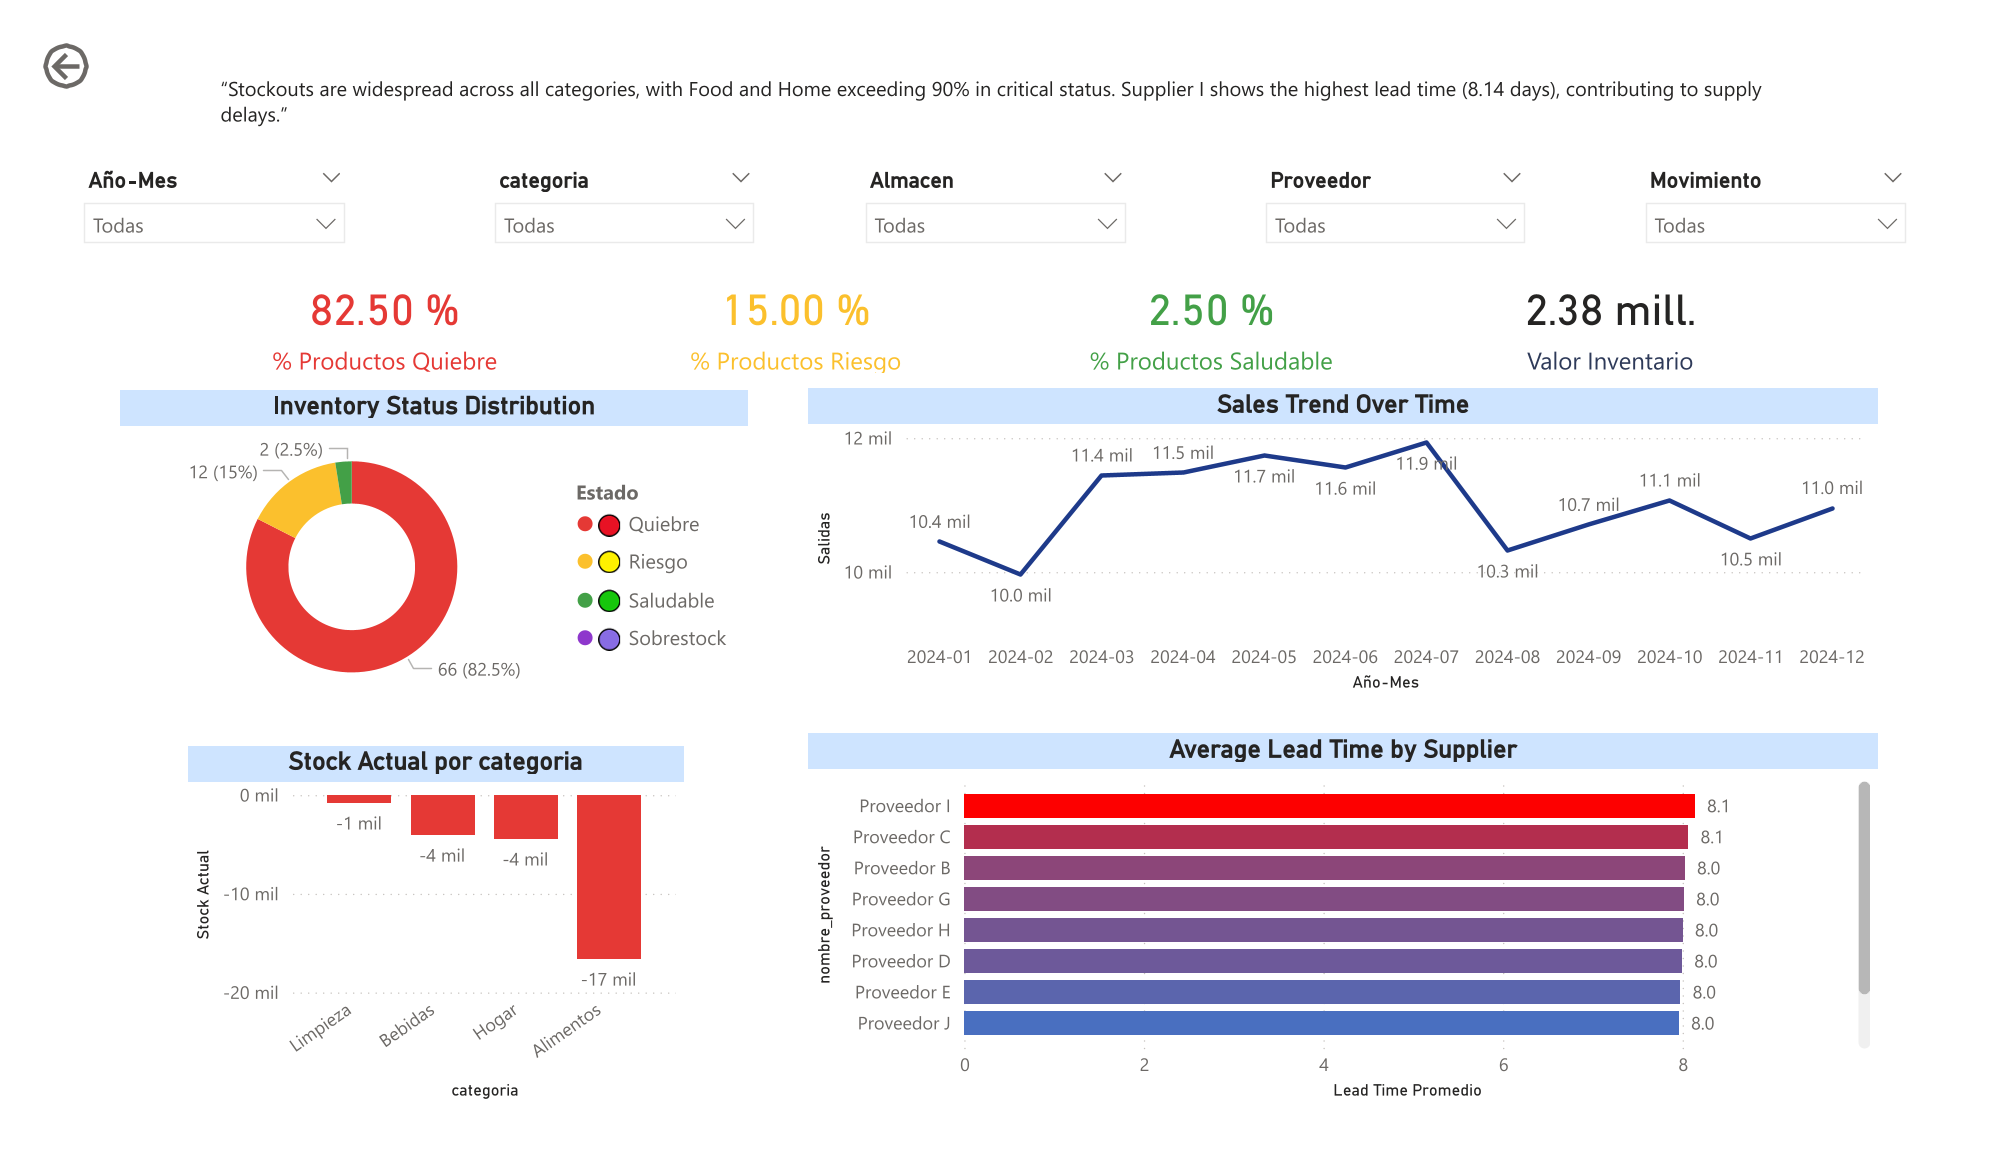

What the dashboard file says about the page in this screenshot:
{"tool":"powerbi","page":{"name":"Inventory & Operations Analysis","canvas":[1280,720],"ordinal":1},"visuals":[{"type":"donutChart","title":"Inventory Status Distribution","fields":{"Category":["Tabla Estados.Estado"],"Y":["Tabla Estados.Conteo Productos"]},"box":[56.3,236,418.5,216.8],"z":0},{"type":"lineChart","title":"Sales Trend Over Time","fields":{"Category":["dim_fecha.Año-Mes"],"Y":["fact_movimientos.Salidas"]},"box":[514.6,234.6,713.6,207.2],"z":1000},{"type":"clusteredBarChart","title":"Average Lead Time by Supplier","fields":{"Y":["fact_movimientos.Lead Time Promedio"],"Category":["dim_proveedores.nombre_proveedor"]},"box":[514.6,465.2,713.6,248.4],"z":2000},{"type":"clusteredColumnChart","fields":{"Category":["dim_productos.categoria"],"Y":["fact_movimientos.Stock Actual"]},"box":[101.3,472.9,330.6,241.3],"z":3000},{"type":"card","fields":{"Values":["fact_movimientos.% Productos Quiebre"]},"box":[143.6,153.4,177,76.8],"z":4000},{"type":"card","fields":{"Values":["fact_movimientos.% Productos Saludable"]},"box":[695.2,153.4,177,76.8],"z":5000},{"type":"card","fields":{"Values":["fact_movimientos.% Productos Riesgo"]},"box":[418,153.4,177,76.8],"z":6000},{"type":"card","fields":{"Values":["fact_movimientos.Valor Inventario"]},"box":[961.4,153.4,177,76.8],"z":7000},{"type":"slicer","fields":{"Values":["dim_fecha.Año-Mes"]},"box":[21.7,83.5,194.2,65.1],"z":8000},{"type":"slicer","fields":{"Values":["dim_productos.categoria"]},"box":[295.6,83.5,193,65.1],"z":9000},{"type":"slicer","fields":{"Values":["dim_almacenes.nombre_almacen"]},"box":[542.9,83.5,194.2,65.1],"z":10000},{"type":"slicer","fields":{"Values":["dim_proveedores.nombre_proveedor"]},"box":[809.5,83.5,193,65.1],"z":11000},{"type":"slicer","fields":{"Values":["fact_movimientos.tipo_movimiento"]},"box":[1062.9,83.5,194.2,65.1],"z":12000},{"type":"actionButton","box":[0,0,100,40],"z":13000},{"type":"textbox","box":[118.2,20.5,1041.2,50.7],"z":14000}]}

Visuals, with their boxes in screenshot pixels (x1, y1, x2, y2), scaled from the page's 1280x720 canvas onto the 1992x1152 screenshot:
"Inventory Status Distribution" donutChart: <region>88, 378, 739, 724</region>
"Sales Trend Over Time" lineChart: <region>801, 375, 1911, 707</region>
"Average Lead Time by Supplier" clusteredBarChart: <region>801, 744, 1911, 1142</region>
clusteredColumnChart - dim_productos.categoria x fact_movimientos.Stock Actual: <region>158, 757, 672, 1143</region>
card - fact_movimientos.% Productos Quiebre: <region>223, 245, 499, 368</region>
card - fact_movimientos.% Productos Saludable: <region>1082, 245, 1357, 368</region>
card - fact_movimientos.% Productos Riesgo: <region>651, 245, 926, 368</region>
card - fact_movimientos.Valor Inventario: <region>1496, 245, 1772, 368</region>
slicer - dim_fecha.Año-Mes: <region>34, 134, 336, 238</region>
slicer - dim_productos.categoria: <region>460, 134, 760, 238</region>
slicer - dim_almacenes.nombre_almacen: <region>845, 134, 1147, 238</region>
slicer - dim_proveedores.nombre_proveedor: <region>1260, 134, 1560, 238</region>
slicer - fact_movimientos.tipo_movimiento: <region>1654, 134, 1956, 238</region>
actionButton: <region>0, 0, 156, 64</region>
textbox: <region>184, 33, 1804, 114</region>
